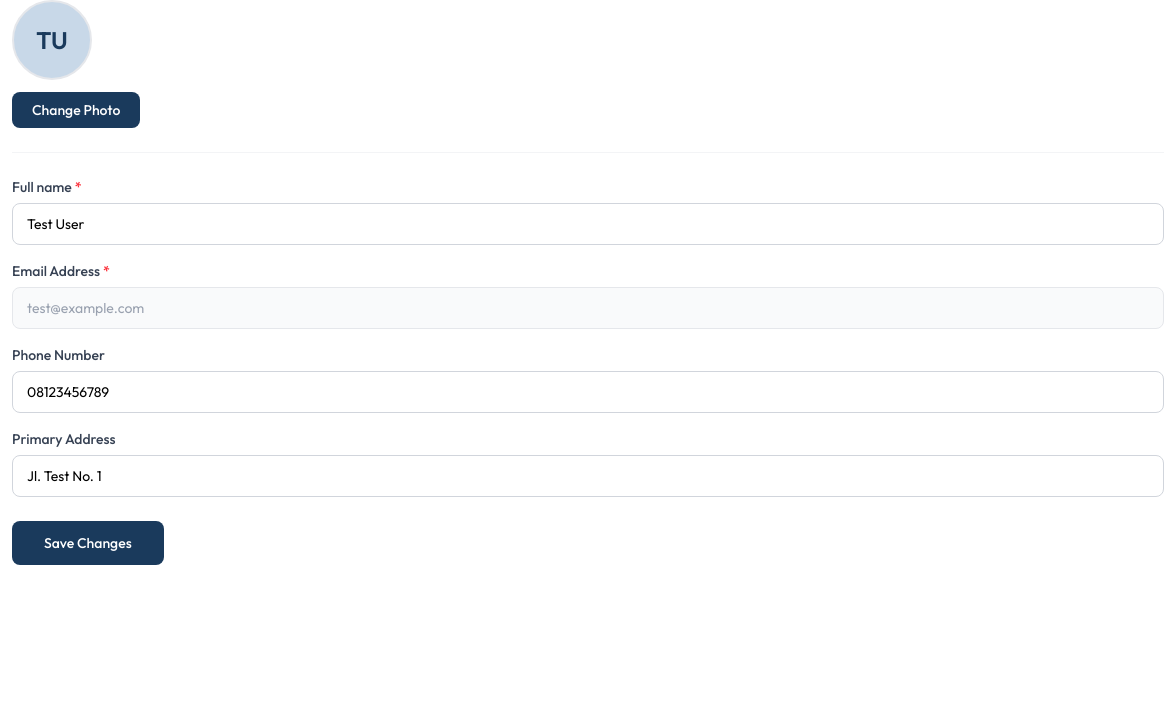
Test case: ProfileForm › menampilkan error ketika update profil gagal
Click the button "Save Changes". click: (88, 543)
box: [12,521,164,565]
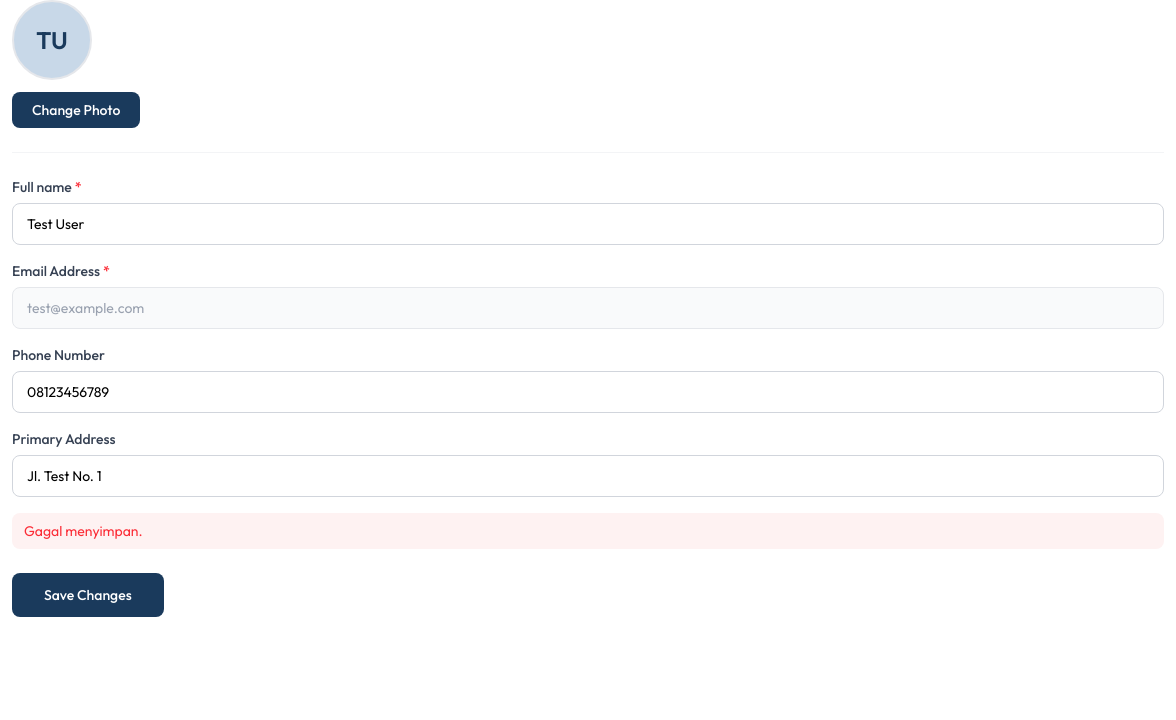
Result: the text "Gagal menyimpan." is shown at [12,513,1164,549]
